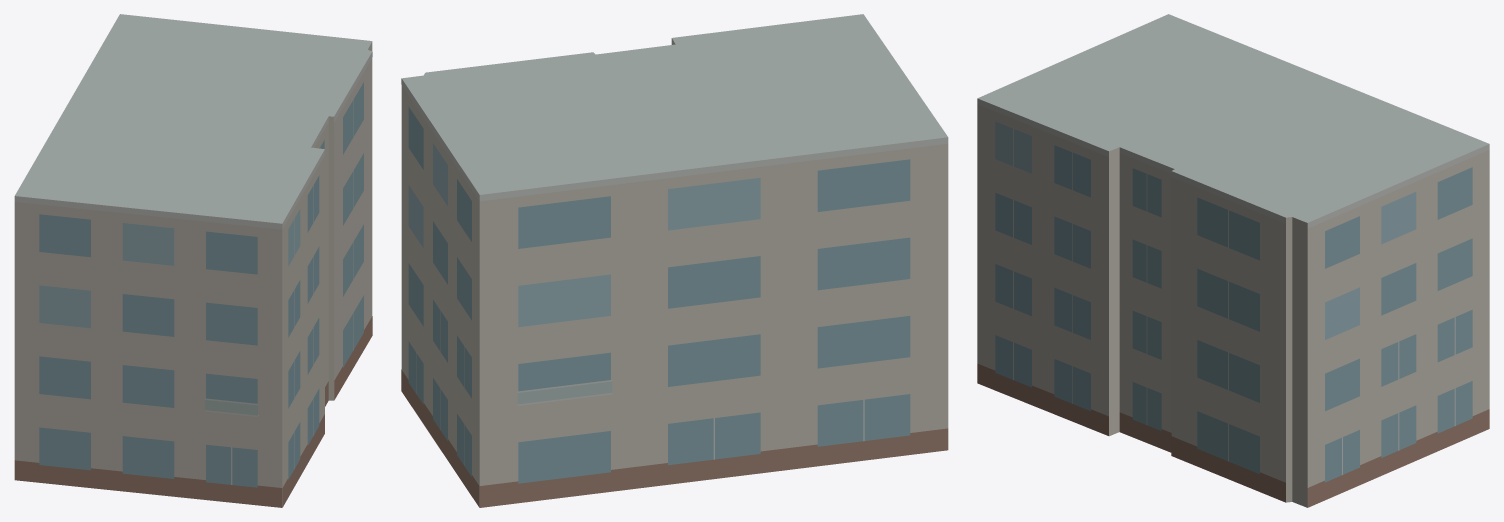
The model's file is survey-upis-32909058.glb.
3 views of the same model, side by side, from view 1: azimuth 30°, elevation 25°; view 2: azimuth 150°, elevation 25°; view 3: azimuth 270°, elevation 25° (orthographic). The views are drawn at different scales.
Parts seen in each view (by area): view 1: survey-upis-32909058.tmp; view 2: survey-upis-32909058.tmp; view 3: survey-upis-32909058.tmp.
Boxes of the visible parts, left/top/right/bottom form: survey-upis-32909058.tmp: left=14, top=14, right=372, bottom=507; survey-upis-32909058.tmp: left=401, top=14, right=948, bottom=507; survey-upis-32909058.tmp: left=977, top=14, right=1489, bottom=507.
Bounding box in the file's own units: 18.73 × 11.9 × 19.4.
